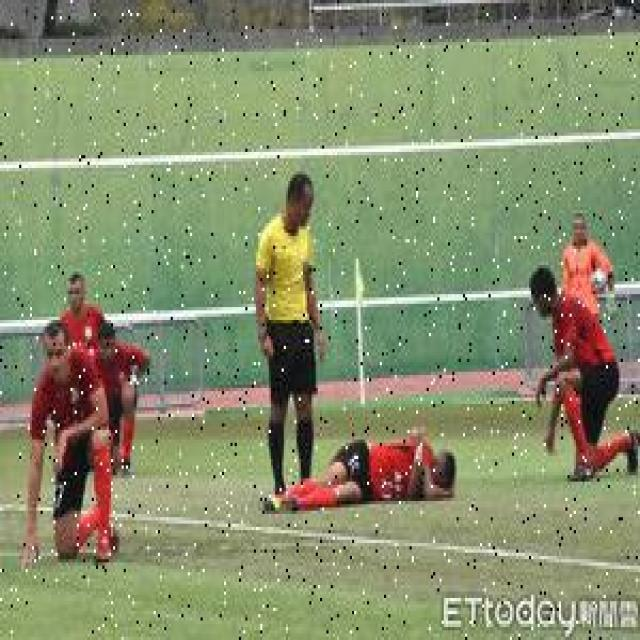fall: (264, 423, 456, 514)
